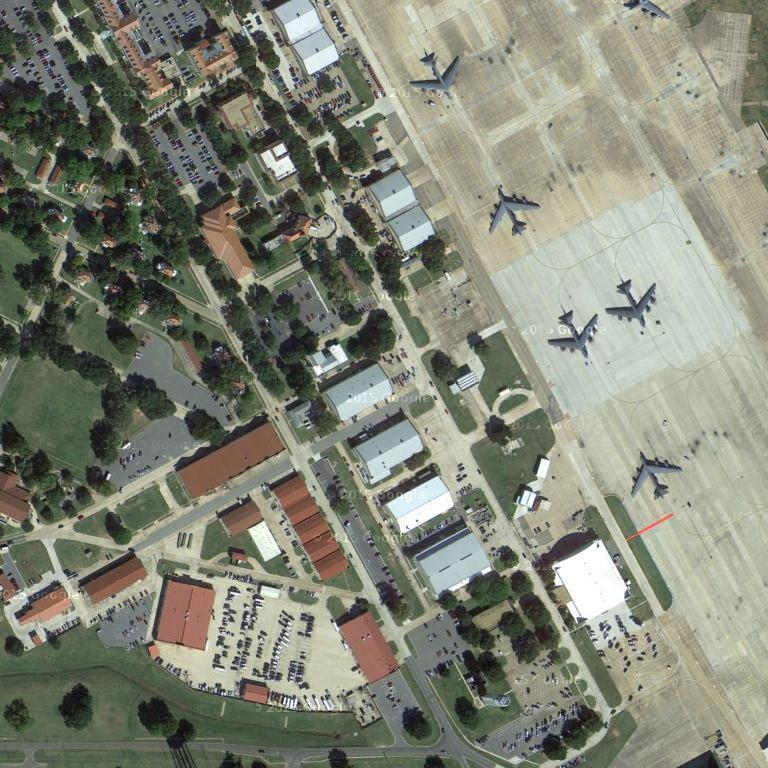B-52: (602, 274, 662, 330), (483, 182, 544, 237), (405, 50, 468, 103), (547, 305, 603, 362), (628, 448, 685, 500)
